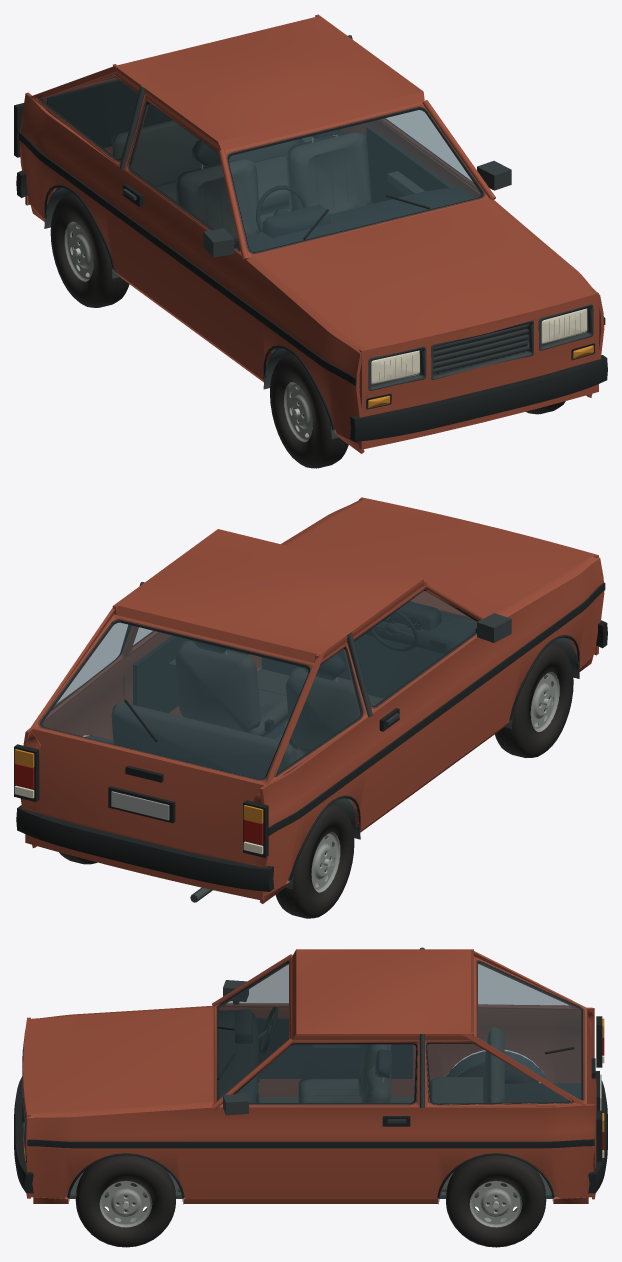
The model's file is tern-candidate.glb.
3 renders of one model, top to bottom at view 1: azimuth 30°, elevation 25°; view 2: azimuth 150°, elevation 25°; view 3: azimuth 270°, elevation 25°, orthographic. The views are drawn at different scales.
Parts seen in each view (by area): view 1: panel_hoodTern, glass_FrontTern, panel_RoofTern, panel_BodyDoorLTern, panel_FrontValanceTern, panel_FrontWingLTern, panel_RearWingLTern, glass_BodyDoorLTern, panel_bumper_frontTern, Interior Tern seat back 1, Interior Tern seat back -1, Interior Tern rear backrest (+36 smaller); view 2: glass_TailgateTernRear, panel_RoofTern, panel_hoodTern, panel_TailgateTernSkin, panel_BodyDoorLTern, panel_RearWingLTern, Interior Tern rear backrest, glass_BodyDoorLTern, panel_bumper_rearTern, panel_FrontWingLTern, Interior Tern seat back 1, glass_QuarterTernL (+32 smaller); view 3: panel_hoodTern, panel_BodyDoorRTern, panel_RoofTern, panel_RearWingRTern, panel_FrontWingRTern, glass_BodyDoorRTern, glass_TailgateTernRear, panel_RearWingLTern, glass_FrontTern, glass_QuarterTernR, Tire_Tern_Carcass_FR, Tire_Tern_Carcass_RR (+45 smaller).
Part boxes in pixels (x1,y1,x2,y2): panel_hoodTern: [257, 199, 593, 349]; glass_FrontTern: [228, 110, 480, 251]; panel_RoofTern: [115, 16, 423, 144]; panel_BodyDoorLTern: [117, 170, 247, 368]; panel_FrontValanceTern: [359, 291, 599, 449]; panel_FrontWingLTern: [240, 260, 361, 445]; panel_RearWingLTern: [20, 92, 124, 278]; glass_BodyDoorLTern: [131, 104, 239, 247]; panel_bumper_frontTern: [350, 355, 607, 441]; Interior Tern seat back 1: [286, 132, 371, 214]; Interior Tern seat back -1: [175, 159, 260, 241]; Interior Tern rear backrest: [111, 119, 299, 186]; glass_TailgateTernRear: [42, 622, 308, 779]; panel_RoofTern: [115, 529, 423, 654]; panel_hoodTern: [289, 498, 593, 618]; panel_TailgateTernSkin: [32, 729, 263, 863]; panel_BodyDoorLTern: [369, 637, 498, 823]; panel_RearWingLTern: [259, 716, 376, 895]; Interior Tern rear backrest: [111, 701, 296, 779]; glass_BodyDoorLTern: [354, 591, 476, 705]; panel_bumper_rearTern: [16, 805, 273, 891]; panel_FrontWingLTern: [492, 558, 604, 733]; Interior Tern seat back 1: [175, 641, 260, 731]; glass_QuarterTernL: [276, 649, 360, 773]; panel_hoodTern: [23, 1008, 213, 1113]; panel_BodyDoorRTern: [213, 1107, 420, 1199]; panel_RoofTern: [296, 949, 470, 1036]; panel_RearWingRTern: [420, 1104, 594, 1199]; panel_FrontWingRTern: [27, 1107, 213, 1199]; glass_BodyDoorRTern: [236, 1044, 416, 1102]; glass_TailgateTernRear: [478, 963, 581, 1099]; panel_RearWingLTern: [427, 1007, 594, 1083]; glass_FrontTern: [219, 963, 288, 1098]; glass_QuarterTernR: [427, 1043, 568, 1103]; Tire_Tern_Carcass_FR: [75, 1155, 175, 1247]; Tire_Tern_Carcass_RR: [446, 1155, 546, 1247].
Bounding box in the file's own units: 1.85 × 1.5 × 3.79.
